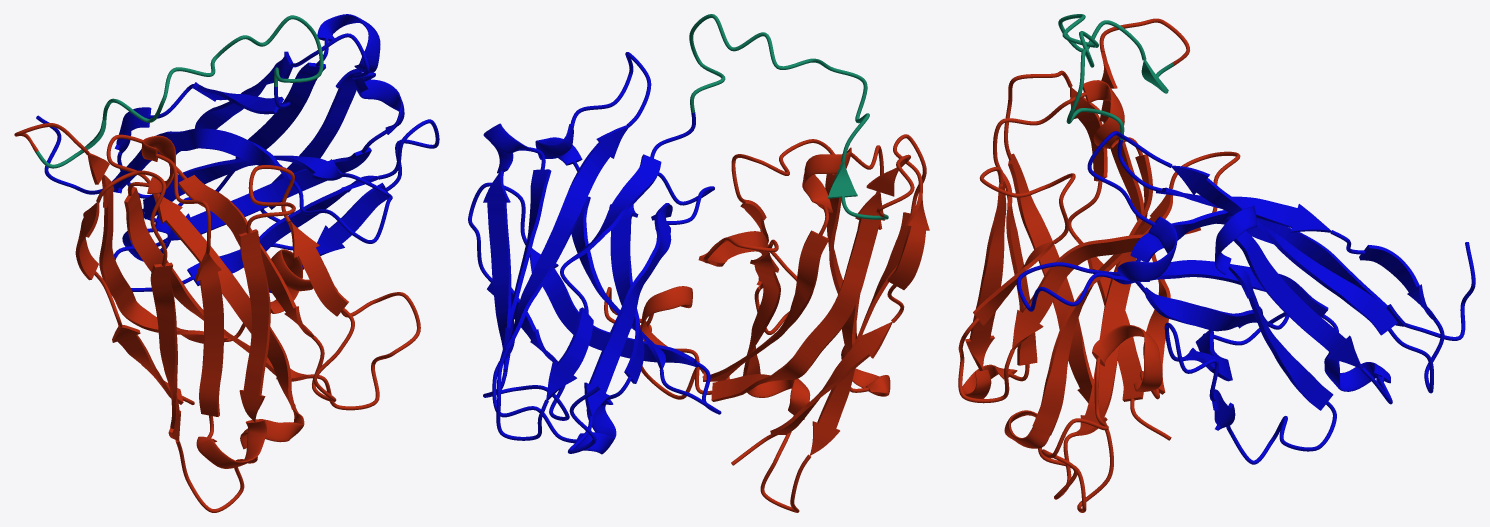
File: red_epha2_blue_tfr.glb
The picture shows the model from 3 angles, left to right: view 1: azimuth 30°, elevation 25°; view 2: azimuth 150°, elevation 25°; view 3: azimuth 270°, elevation 25°; orthographic projection. The views are drawn at different scales.
Bounding box in the file's own units: 50.41 × 53.12 × 50.
